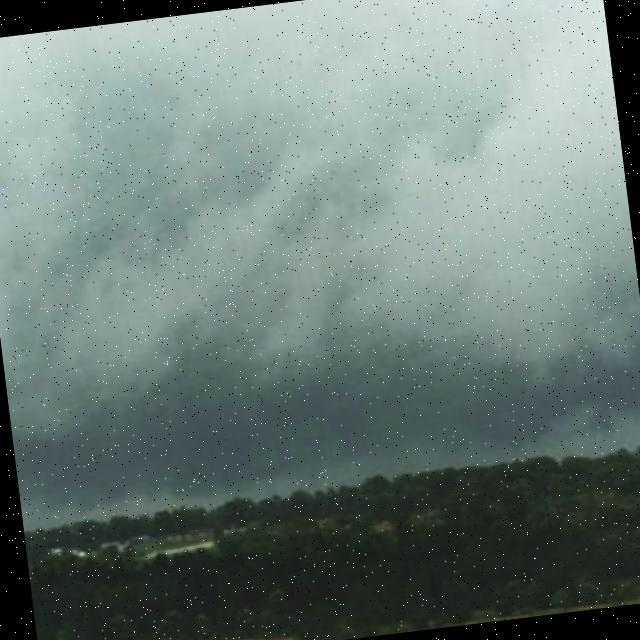St: (1, 30, 640, 459)
